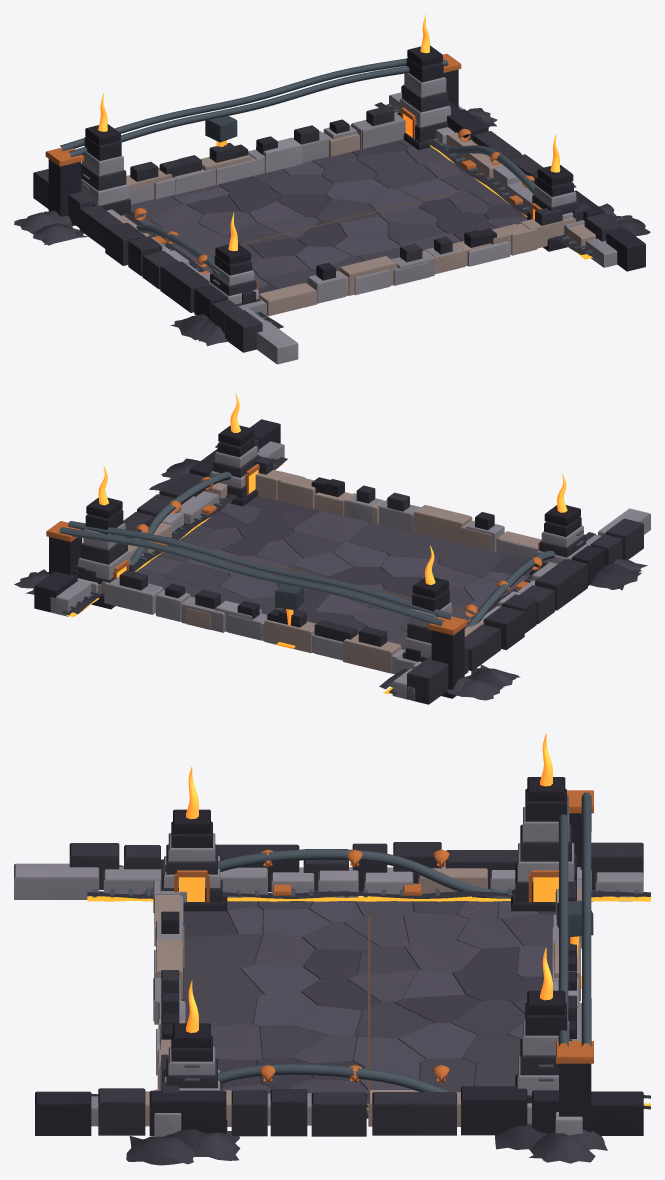
The picture shows the model from 3 angles, top to bottom: view 1: azimuth 30°, elevation 25°; view 2: azimuth 150°, elevation 25°; view 3: azimuth 270°, elevation 25°; orthographic projection. The views are drawn at different scales.
Parts seen in each view (by area): view 1: courtyard--stone-pale, boundary-masonry--stone-pale, boundary-masonry--stone-dark, furnace-towers--stone-dark, crucible-gantry--metal, furnace-towers--stone-pale, slag-berms--stone-dark, crucible-gantry--stone-dark, iron-piping--metal, lava-channels--stone-dark, furnace-towers--emissive, crucible-gantry--trim-brass (+2 smaller); view 2: courtyard--stone-pale, boundary-masonry--stone-pale, boundary-masonry--stone-dark, furnace-towers--stone-dark, crucible-gantry--metal, slag-berms--stone-dark, furnace-towers--stone-pale, crucible-gantry--stone-dark, iron-piping--metal, lava-channels--stone-dark, furnace-towers--emissive, crucible-gantry--trim-brass (+1 smaller); view 3: courtyard--stone-pale, boundary-masonry--stone-dark, boundary-masonry--stone-pale, furnace-towers--stone-dark, slag-berms--stone-dark, iron-piping--metal, crucible-gantry--metal, furnace-towers--stone-pale, furnace-towers--emissive, crucible-gantry--stone-dark, lava-channels--stone-dark, lava-channels--emissive (+4 smaller).
Part boxes in pixels (x1,y1,x2,y2): courtyard--stone-pale: (131,139,527,294); boundary-masonry--stone-pale: (106,92,617,364); boundary-masonry--stone-dark: (33,86,645,352); furnace-towers--stone-dark: (81,45,578,305); crucible-gantry--metal: (60,58,448,157); furnace-towers--stone-pale: (81,73,576,304); slag-berms--stone-dark: (14,108,650,346); crucible-gantry--stone-dark: (48,69,458,225); iron-piping--metal: (136,141,568,269); lava-channels--stone-dark: (120,102,593,328); furnace-towers--emissive: (98,15,560,251); crucible-gantry--trim-brass: (45,53,461,166); courtyard--stone-pale: (136,495,532,649); boundary-masonry--stone-pale: (48,441,650,701); boundary-masonry--stone-dark: (34,419,643,704); furnace-towers--stone-dark: (80,425,586,661); crucible-gantry--metal: (59,521,452,625); slag-berms--stone-dark: (14,458,647,700); furnace-towers--stone-pale: (78,446,588,657); crucible-gantry--stone-dark: (49,537,464,698); iron-piping--metal: (88,471,555,628); lava-channels--stone-dark: (62,457,595,694); furnace-towers--emissive: (98,393,567,584); crucible-gantry--trim-brass: (46,521,467,635); courtyard--stone-pale: (181,901,555,1118); boundary-masonry--stone-dark: (35,842,643,1136); boundary-masonry--stone-pale: (14,863,643,1136); furnace-towers--stone-dark: (161,777,576,1130); slag-berms--stone-dark: (119,859,607,1165); iron-piping--metal: (143,849,593,1091); crucible-gantry--metal: (557,792,593,1046); furnace-towers--stone-pale: (164,806,574,1095); furnace-towers--emissive: (179,734,558,1032); crucible-gantry--stone-dark: (559,813,591,1132); lava-channels--stone-dark: (87,890,650,1109); lava-channels--emissive: (87,896,650,1109).
Bounding box in the file's own units: 20.61 × 5.8 × 17.63.
